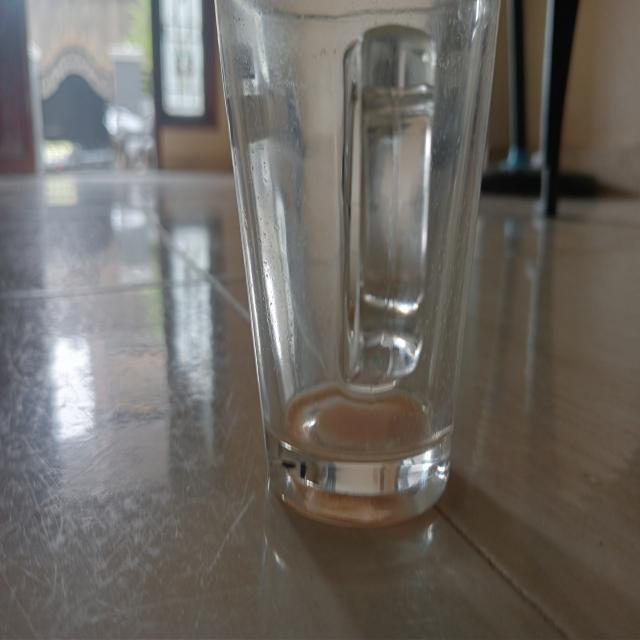glass-VX4N: (210, 0, 513, 525)
